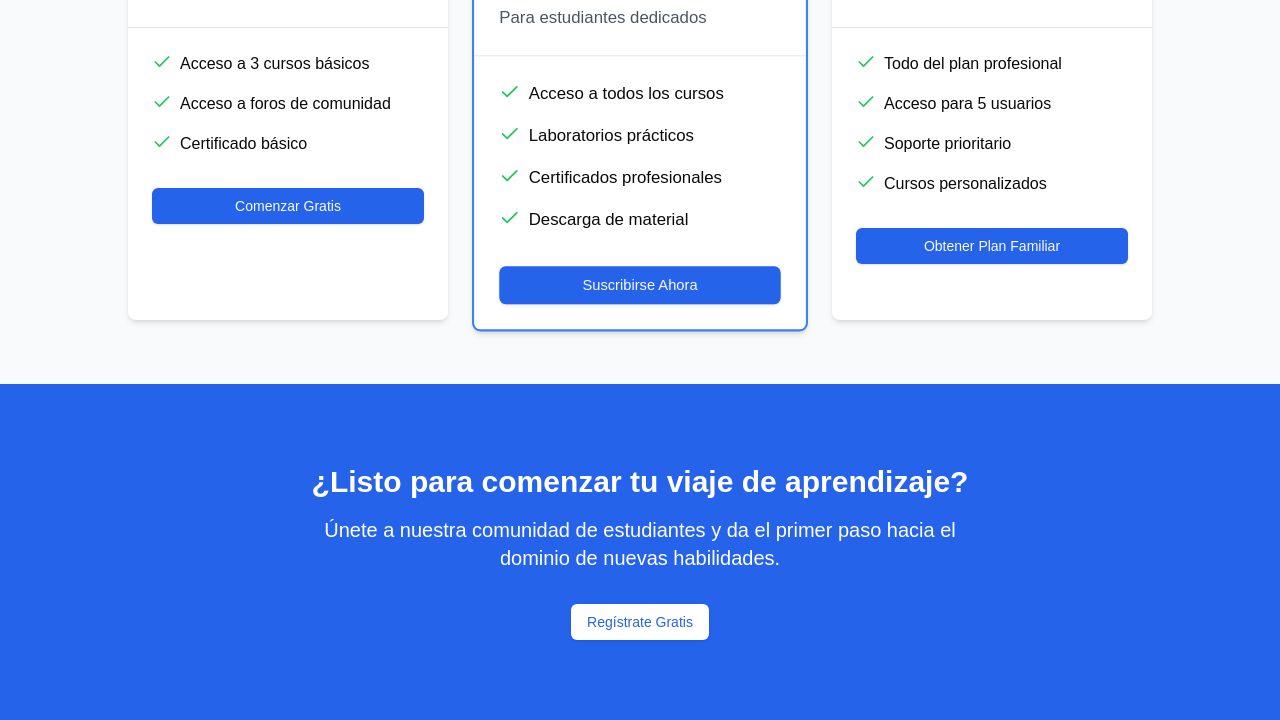
Test case: Flujo de Autenticación › Debería navegar a la página de registro
The image size is (1280, 720).
(page scrolled)
Step 1. Click the button "Regístrate Gratis" → (640, 622), box [571,604,709,640]
(page scrolled)
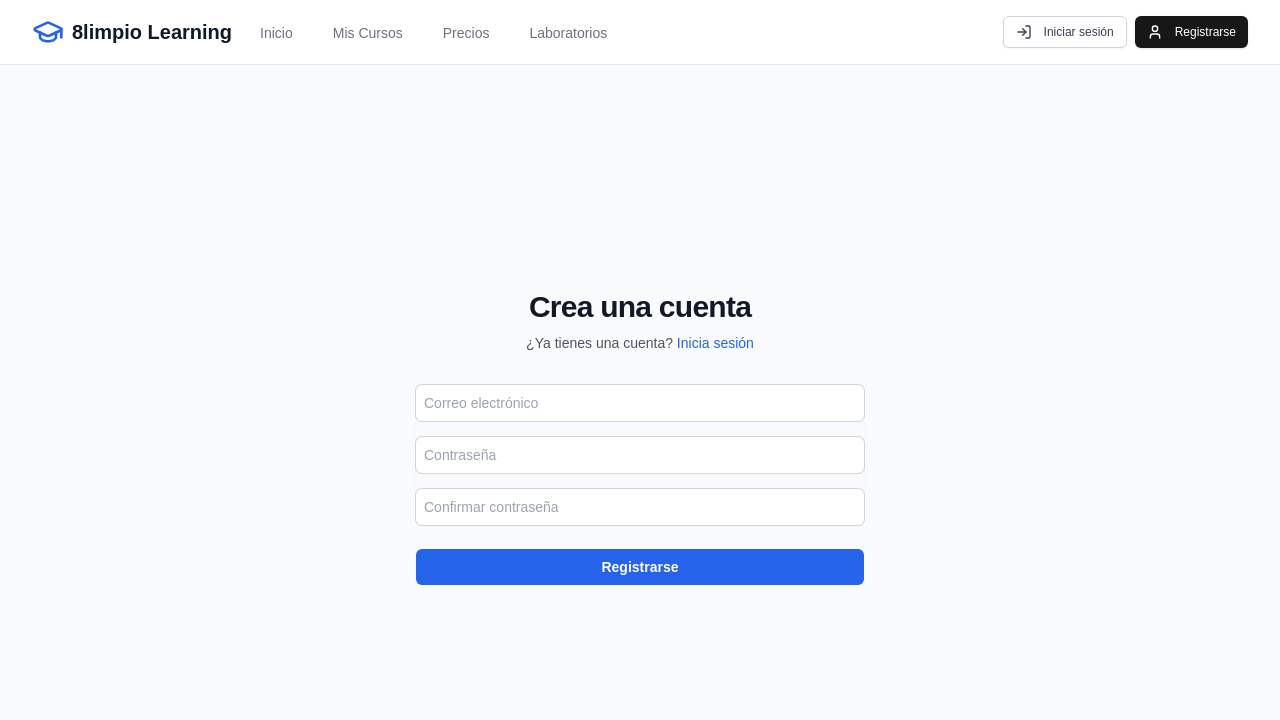
expect the form is shown: met, box [416,385,864,585]
expect the submit button is shown: met, box [416,549,864,585]
